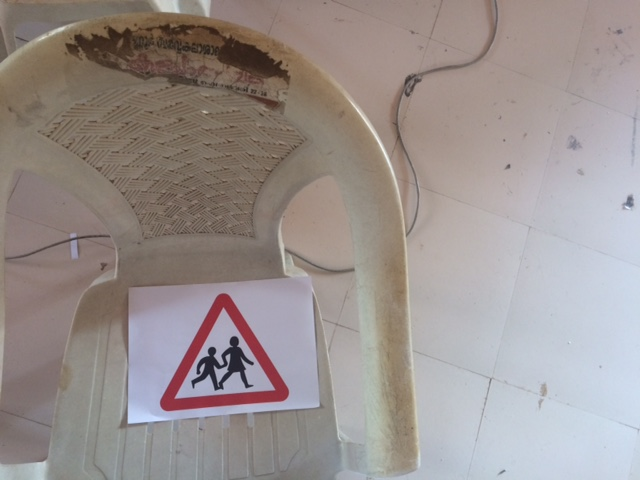sign: (157, 293, 292, 413)
